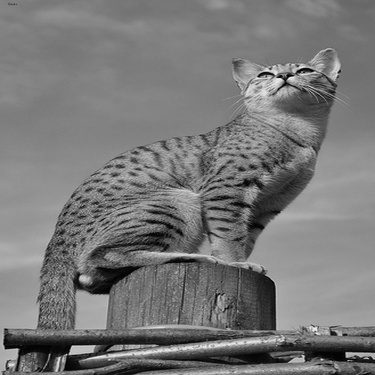cat: (27, 42, 345, 370)
